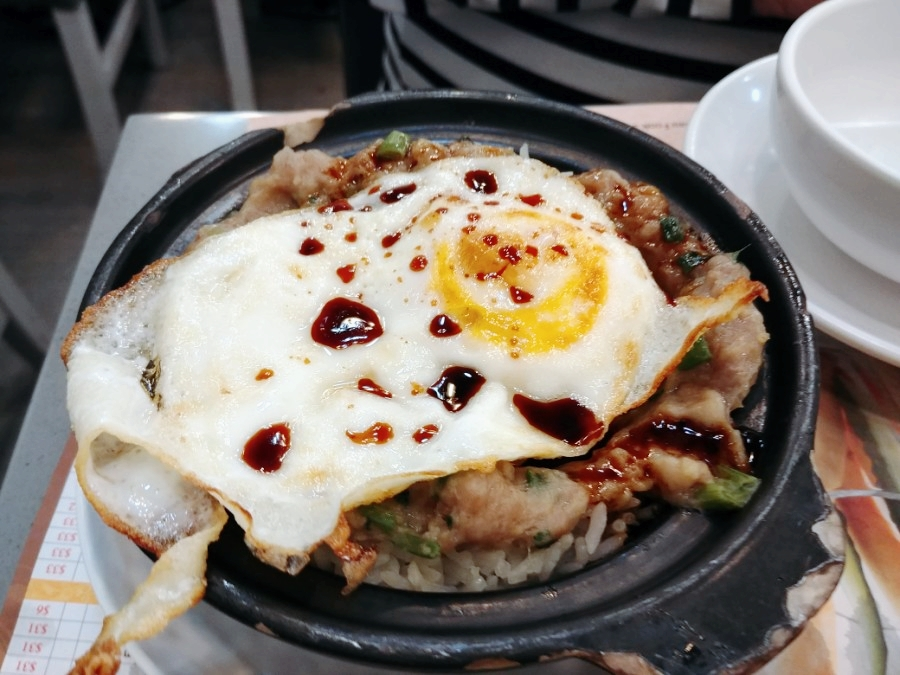fried egg: (120, 207, 691, 460)
